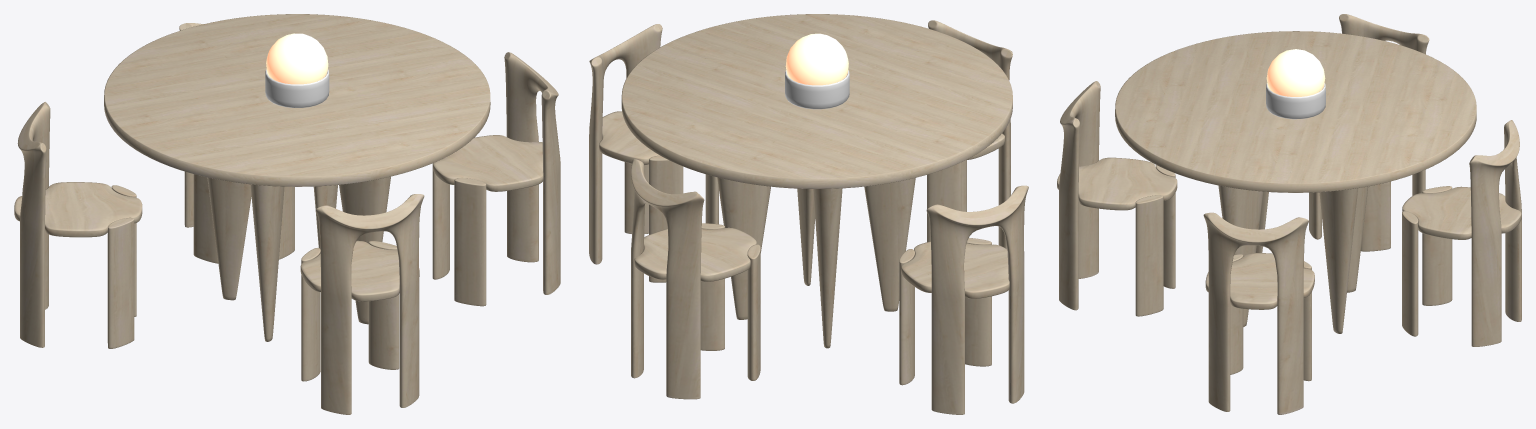
File: Table.glb
The picture shows the model from 3 angles, left to right: view 1: azimuth 30°, elevation 25°; view 2: azimuth 150°, elevation 25°; view 3: azimuth 270°, elevation 25°; orthographic projection. The views are drawn at different scales.
Visible parts, largest first — view 1: Table, Stool_01, Stool_02, Stool_03, Stool_04, Lamp_Light, Lamp_Base; view 2: Table, Stool_03, Stool_04, Stool_02, Stool_01, Lamp_Light, Lamp_Base; view 3: Table, Stool_04, Stool_01, Stool_02, Stool_03, Lamp_Light, Lamp_Base.
Boxes of the visible parts, left/top/right/bottom form: Table: left=104, top=14, right=490, bottom=341; Stool_01: left=300, top=194, right=424, bottom=414; Stool_02: left=432, top=52, right=560, bottom=306; Stool_03: left=14, top=102, right=142, bottom=348; Stool_04: left=179, top=23, right=294, bottom=263; Lamp_Light: left=266, top=33, right=328, bottom=84; Lamp_Base: left=265, top=69, right=329, bottom=107; Table: left=621, top=14, right=1012, bottom=348; Stool_03: left=899, top=185, right=1028, bottom=414; Stool_04: left=631, top=159, right=760, bottom=399; Stool_02: left=589, top=24, right=718, bottom=282; Stool_01: left=927, top=20, right=1012, bottom=248; Lamp_Light: left=785, top=33, right=848, bottom=85; Lamp_Base: left=785, top=70, right=849, bottom=109; Table: left=1115, top=31, right=1476, bottom=333; Stool_04: left=1402, top=120, right=1521, bottom=346; Stool_01: left=1057, top=81, right=1177, bottom=316; Stool_02: left=1203, top=212, right=1314, bottom=414; Stool_03: left=1309, top=14, right=1429, bottom=251; Lamp_Light: left=1266, top=49, right=1325, bottom=96; Lamp_Base: left=1266, top=83, right=1325, bottom=119.
Size of the model in its own units: 2.36 by 1.31 by 2.15.
Materials: 3 (1 with a texture image).
